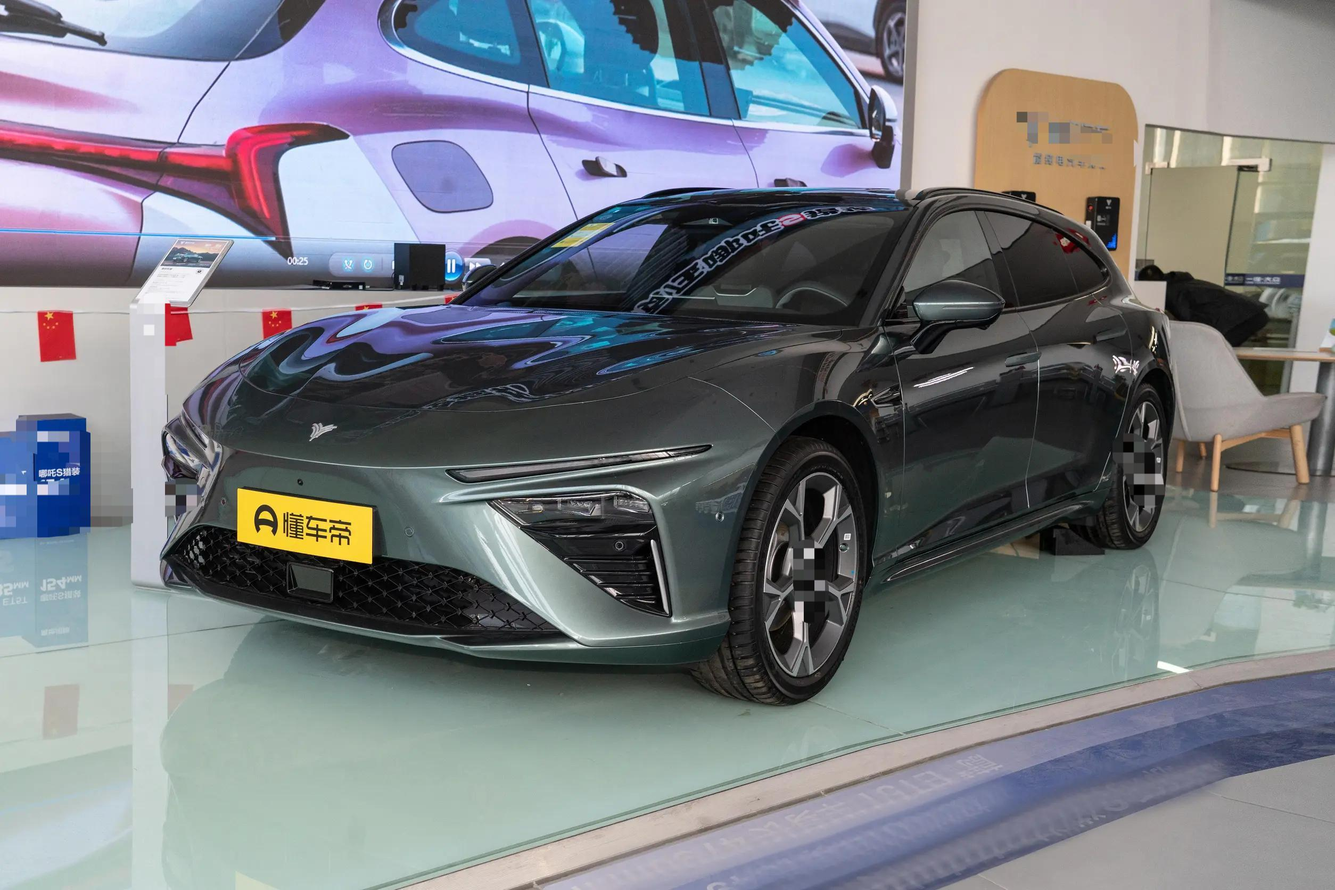NETA: (308, 422, 339, 442)
